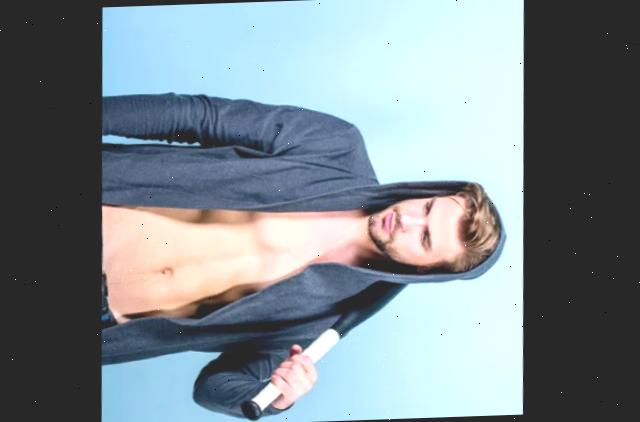baseball bat: (236, 271, 423, 422)
